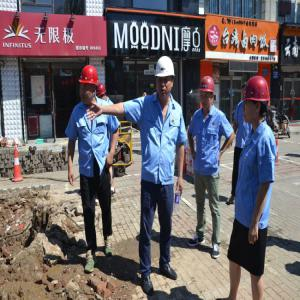red: (243, 75, 271, 126), (80, 66, 100, 104), (199, 75, 216, 110), (97, 82, 107, 102)
white: (155, 53, 176, 101)
